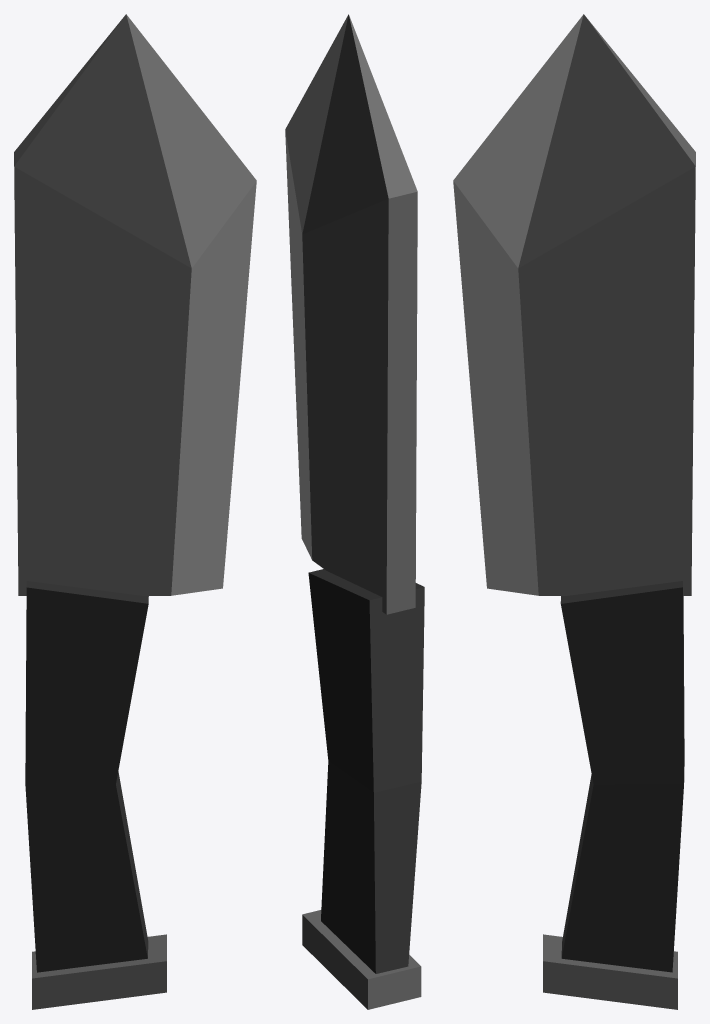
Rendered from Item_Knife00.FBX.
3 renders of one model, left to right at view 1: azimuth 90°, elevation 25°; view 2: azimuth 210°, elevation 25°; view 3: azimuth 270°, elevation 25°, orthographic. The views are drawn at different scales.
Parts seen in each view (by area): view 1: Item_Knife00; view 2: Item_Knife00; view 3: Item_Knife00.
Part boxes in pixels (left/top/right/bottom): Item_Knife00: left=14, top=14, right=256, bottom=1009; Item_Knife00: left=285, top=14, right=424, bottom=1009; Item_Knife00: left=453, top=14, right=695, bottom=1009.
Bounding box in the file's own units: 3.01 × 47.49 × 10.63.
